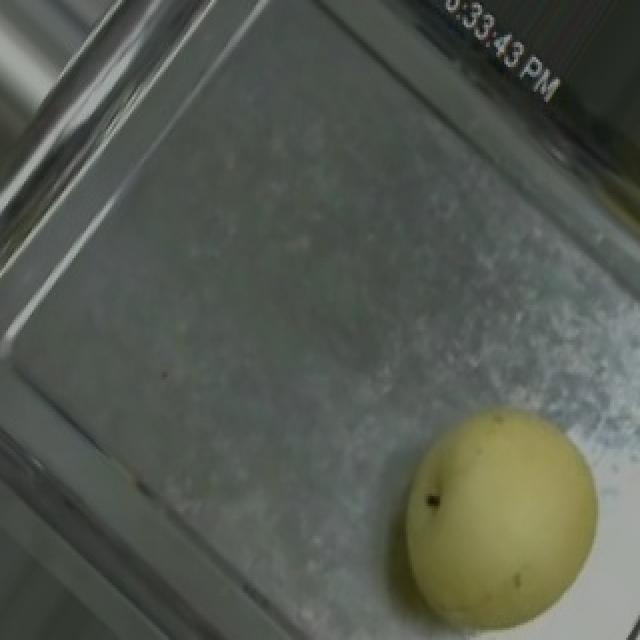Fruit: (354, 364, 640, 640)
